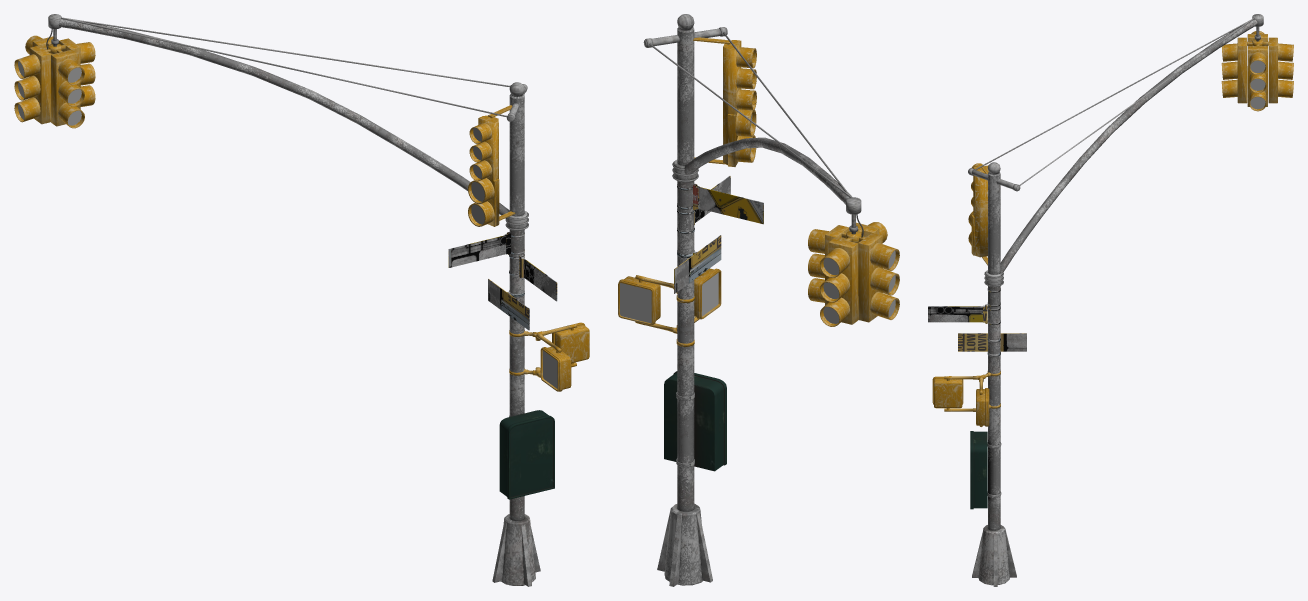
File: Trafficlight.fbx
The picture shows the model from 3 angles, left to right: view 1: azimuth 30°, elevation 25°; view 2: azimuth 150°, elevation 25°; view 3: azimuth 270°, elevation 25°; orthographic projection. The views are drawn at different scales.
Parts seen in each view (by area): view 1: polymsh, polymsh3, polymsh1, polymsh4; view 2: polymsh, polymsh3, polymsh4, polymsh1; view 3: polymsh, polymsh1, polymsh4, polymsh3.
Part boxes in pixels (x1=…): polymsh: x1=14, y1=14, x2=554, y2=586; polymsh3: x1=468, y1=105, x2=515, y2=226; polymsh1: x1=448, y1=232, x2=557, y2=330; polymsh4: x1=509, y1=322, x2=589, y2=391; polymsh: x1=643, y1=14, x2=899, y2=586; polymsh3: x1=693, y1=37, x2=756, y2=166; polymsh4: x1=618, y1=268, x2=721, y2=346; polymsh1: x1=674, y1=176, x2=763, y2=293; polymsh: x1=968, y1=14, x2=1293, y2=586; polymsh1: x1=928, y1=288, x2=1026, y2=356; polymsh4: x1=932, y1=371, x2=1000, y2=426; polymsh3: x1=968, y1=163, x2=988, y2=265.
Size of the model in its own units: 6.08 by 7.5 by 5.68.
